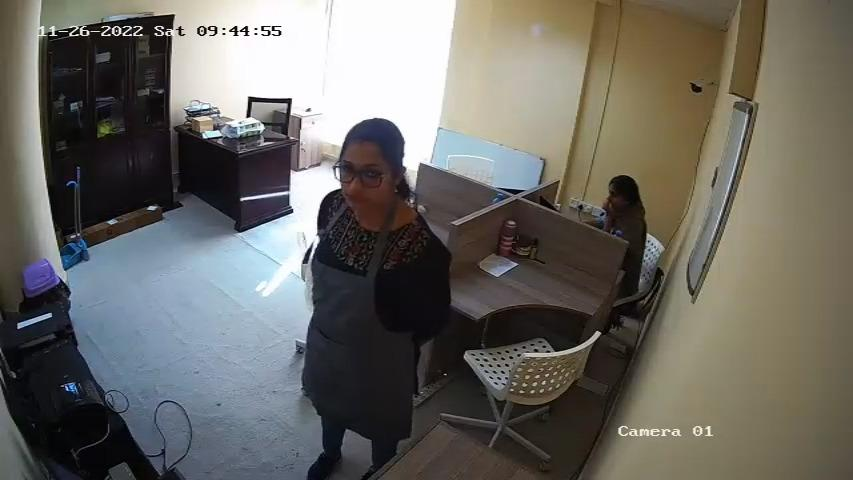apron: (308, 215, 404, 418)
